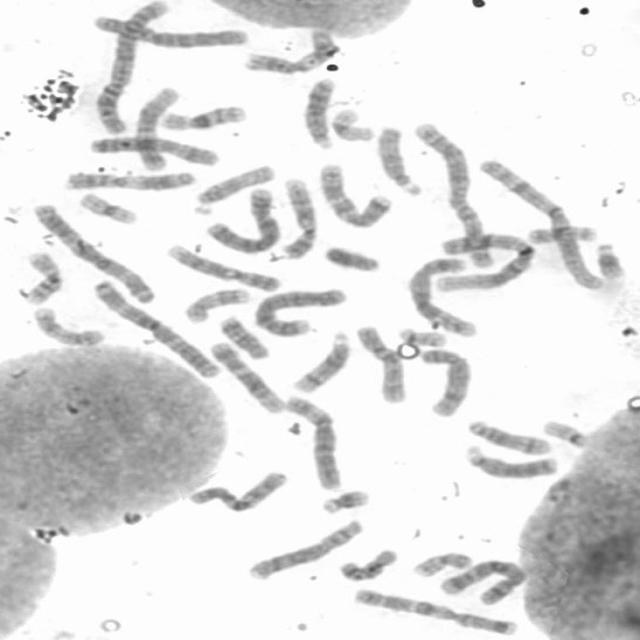A1: (474, 155, 611, 291), (431, 227, 537, 292)
A2: (410, 118, 500, 269), (86, 0, 170, 135)
A3: (27, 198, 159, 304), (87, 275, 222, 378)
B4: (200, 183, 284, 254), (249, 284, 350, 338)
B5: (403, 252, 482, 338), (431, 554, 529, 606)
C10: (182, 466, 292, 514), (350, 320, 410, 405)
C11: (237, 26, 342, 76), (58, 166, 200, 193)
C12: (205, 337, 288, 415), (129, 81, 182, 173)
C6: (279, 390, 346, 492), (84, 9, 252, 49)
C7: (348, 583, 521, 637), (313, 158, 395, 229)
C8: (242, 514, 366, 582), (416, 343, 476, 419)
C9: (161, 239, 285, 293), (276, 173, 321, 260)
D13: (461, 440, 562, 481), (298, 73, 340, 151)
D14: (287, 327, 354, 394), (461, 414, 555, 456)
D15: (188, 159, 278, 214), (372, 121, 426, 197)
E16: (16, 246, 68, 305), (155, 100, 250, 132)
E17: (28, 302, 107, 348), (179, 283, 252, 324)
E18: (215, 312, 273, 360), (333, 543, 400, 582)
F19: (74, 188, 141, 225), (326, 104, 377, 142)
F20: (406, 546, 476, 578), (522, 220, 600, 245)
G21: (315, 484, 374, 515), (590, 237, 628, 281)
G22: (539, 415, 592, 448), (394, 324, 447, 347)
X: (82, 131, 222, 167)
Y: (319, 241, 383, 273)
